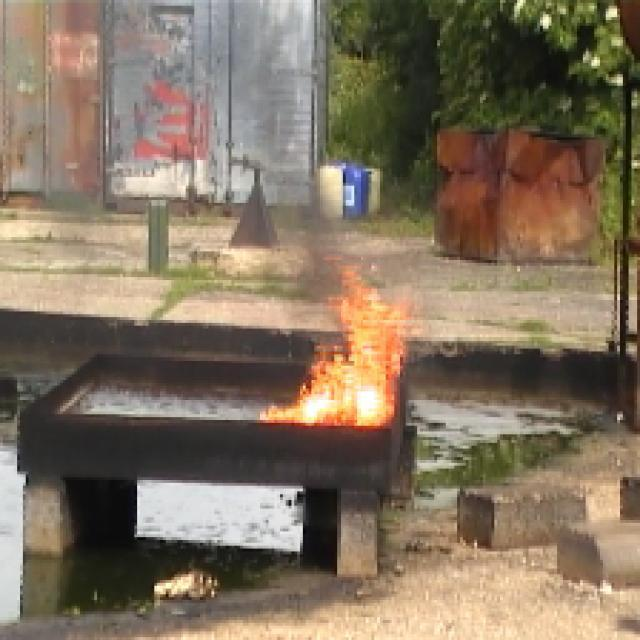Fire: (254, 256, 428, 478)
